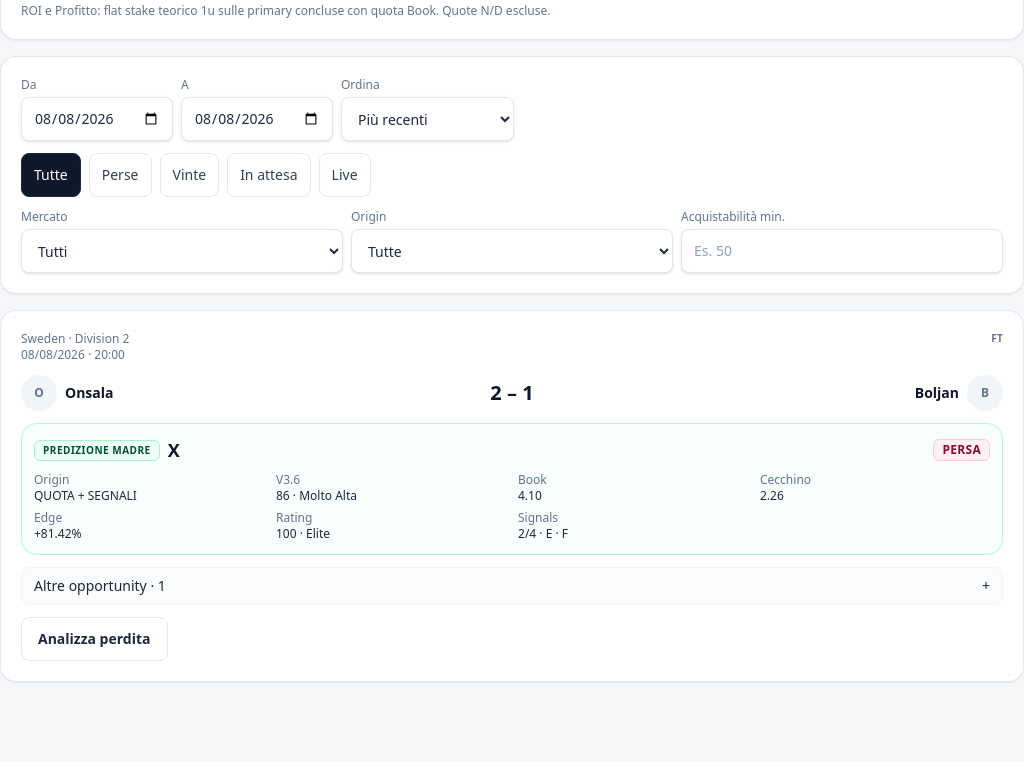
Test case: BetBuilderPage Results BET-RESULTS-01 › 13-14. pending wording e accordion other opportunities
(page scrolled)
Click the button with test id "result-others-toggle" at {"x": 96, "y": 586}, box [21,567,1003,605]
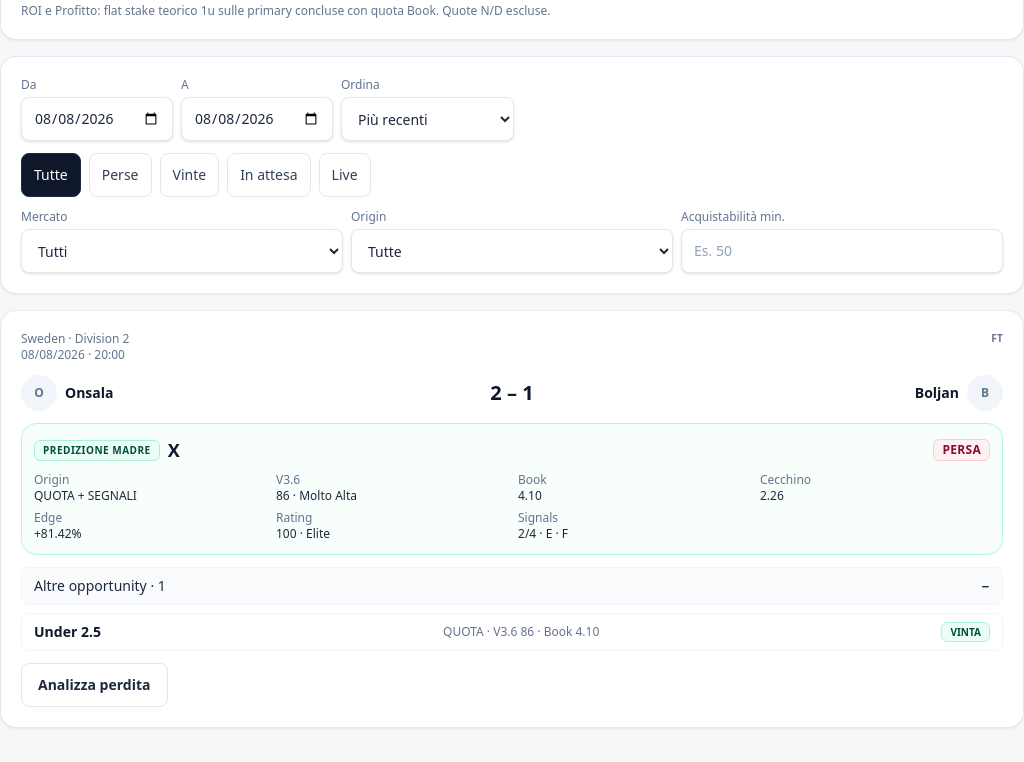
Expected: the list item with test id "result-other-row" is shown, [21,613,1003,651]
